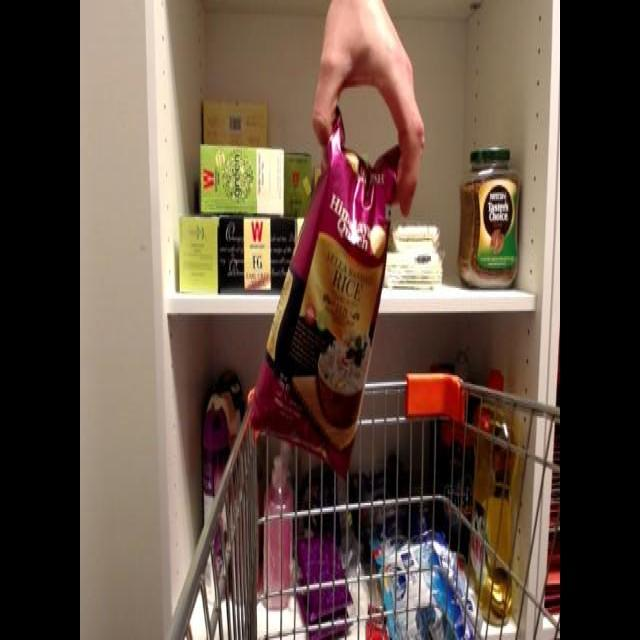Basmati Rice: (245, 104, 411, 479)
